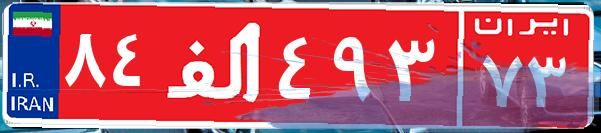3: (385, 28, 445, 110), (525, 38, 570, 115)
4: (273, 28, 330, 110), (110, 28, 158, 105)
7: (475, 38, 525, 113)
8: (57, 26, 110, 107)
9: (330, 28, 385, 110)
الف: (158, 15, 273, 115)
